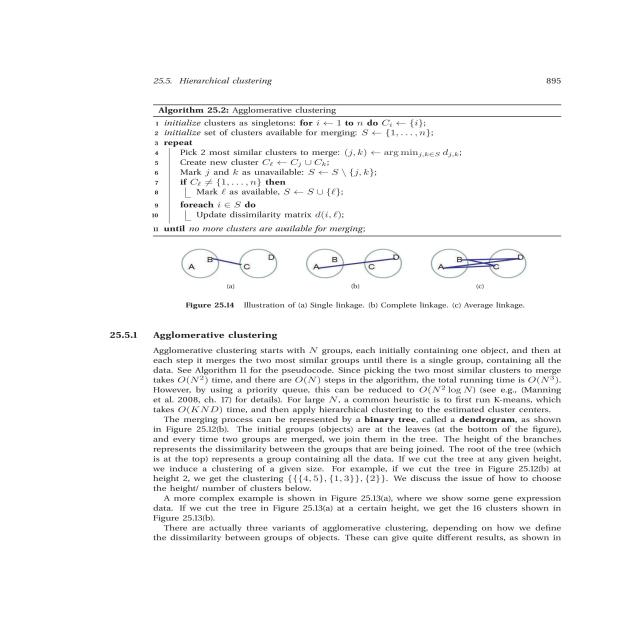diagram: (140, 231, 588, 328)
